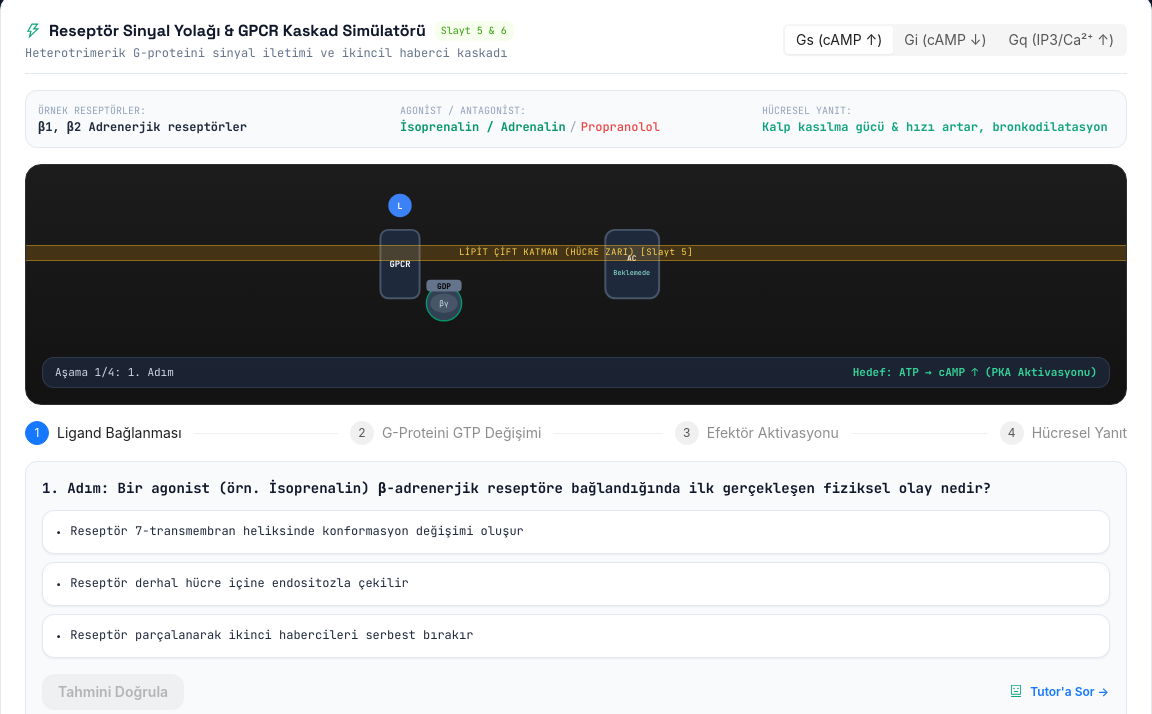
Test: ReceptorSignalingVisualizer › navigates through steps via Tahmini Doğrula and Sonraki Aşamaya İlerle
The image size is (1152, 714).
Note: Select the correct first option for Gs
Click the text "Reseptör 7-transmembran heliksinde konformasyon değişimi oluşur" at (297, 530), box [70,522,524,538]
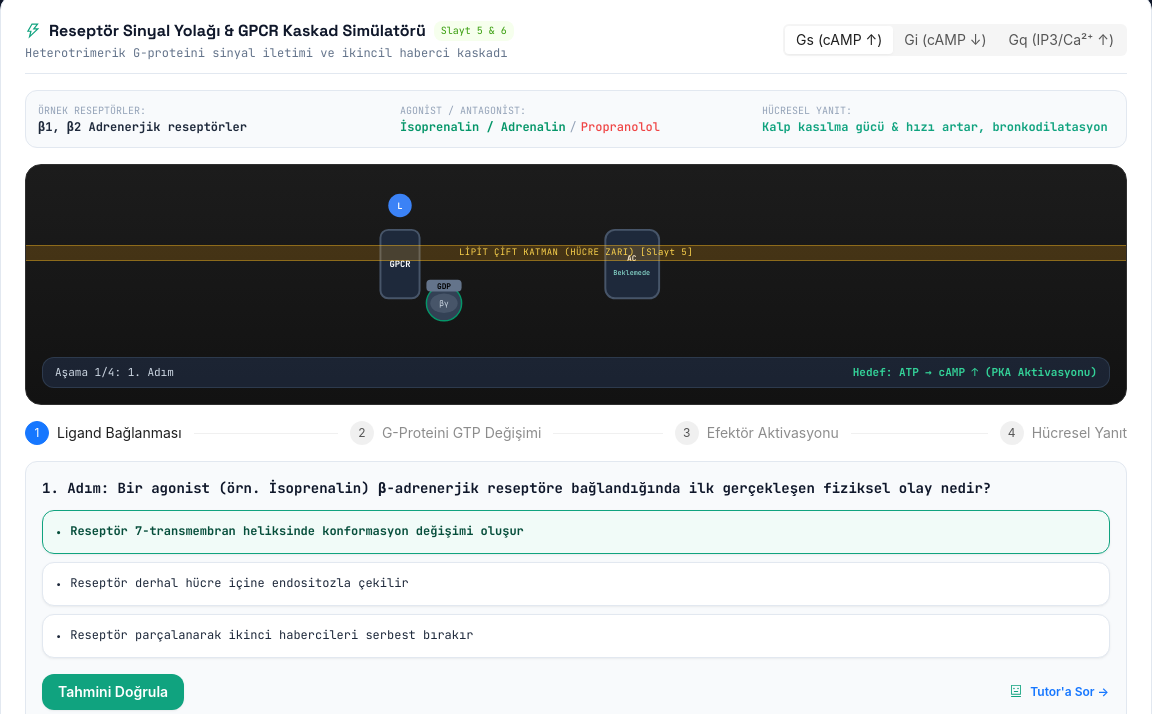
Click the button "Tahmini Doğrula" at (113, 692), box [42,674,184,710]
(page scrolled)
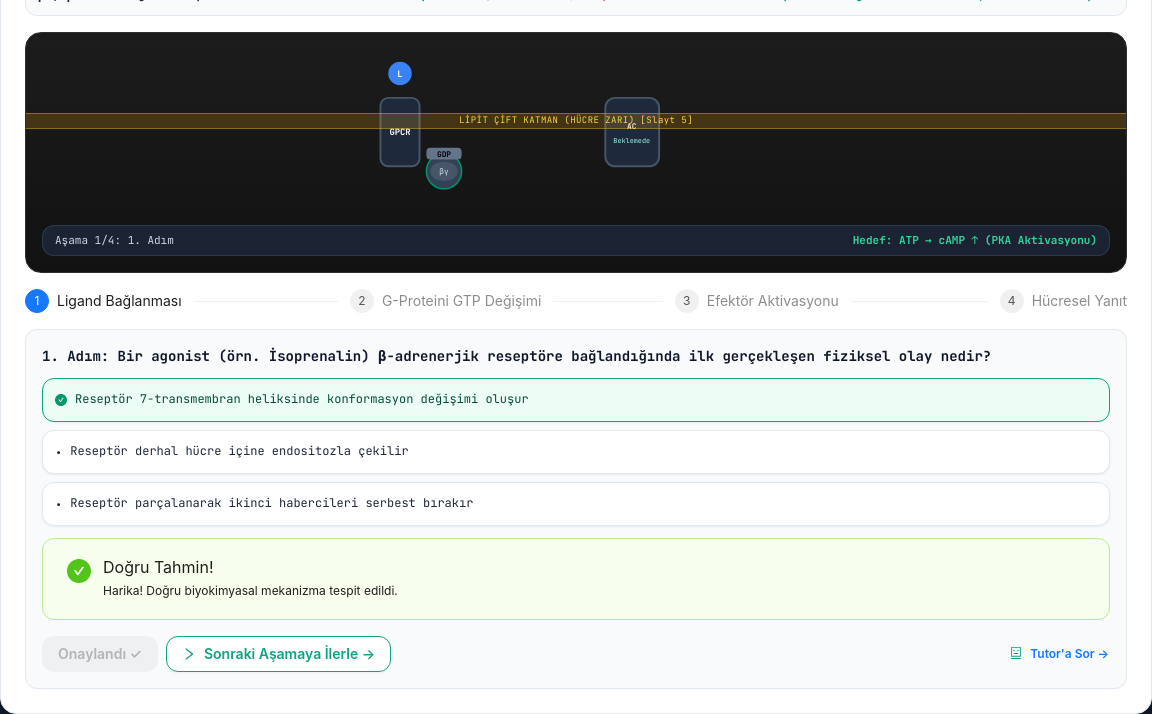
Expected: the text "Doğru Tahmin!" is shown, [103,556,214,576]
Click the button "Sonraki Aşamaya İlerle →" at (279, 654), box [166,636,391,672]
(page scrolled)
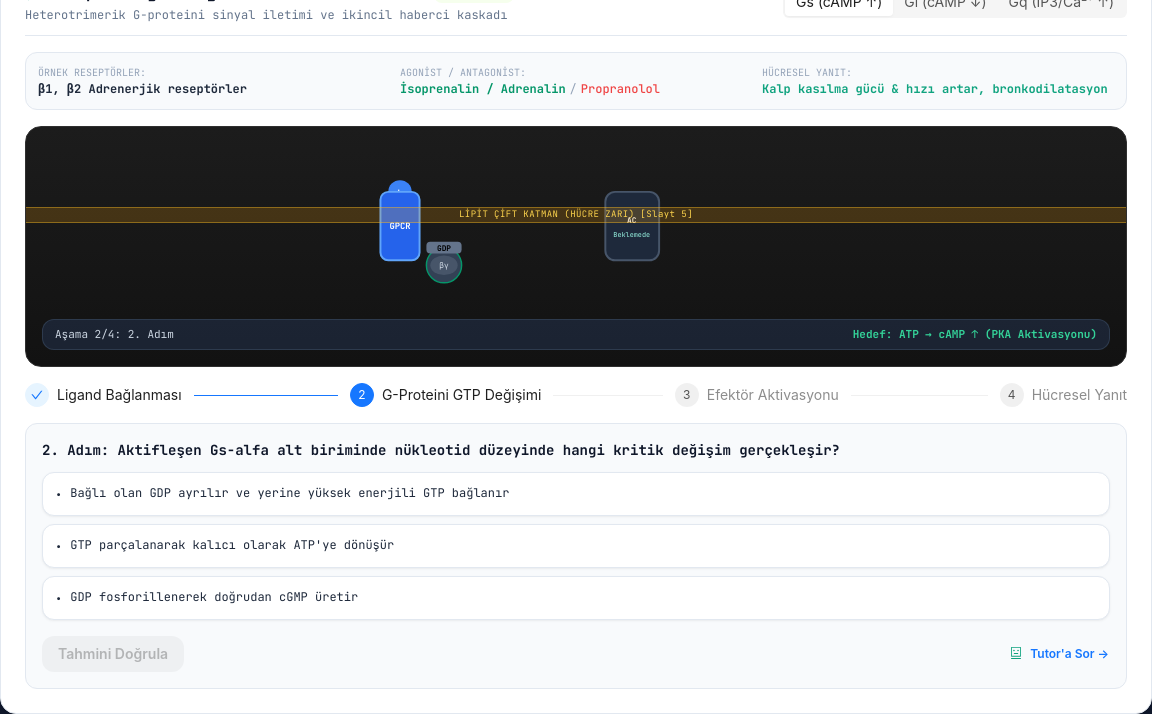
Expected: the text "2. Adım: Aktifleşen Gs-alfa alt biriminde" is shown, [42,440,840,458]
